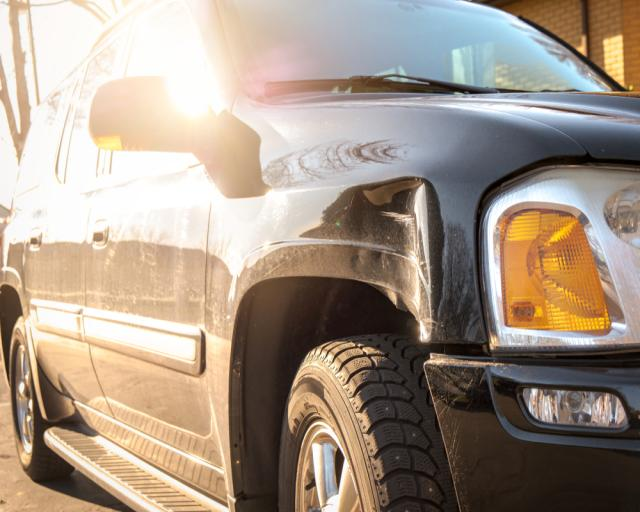dent: (335, 178, 430, 339)
